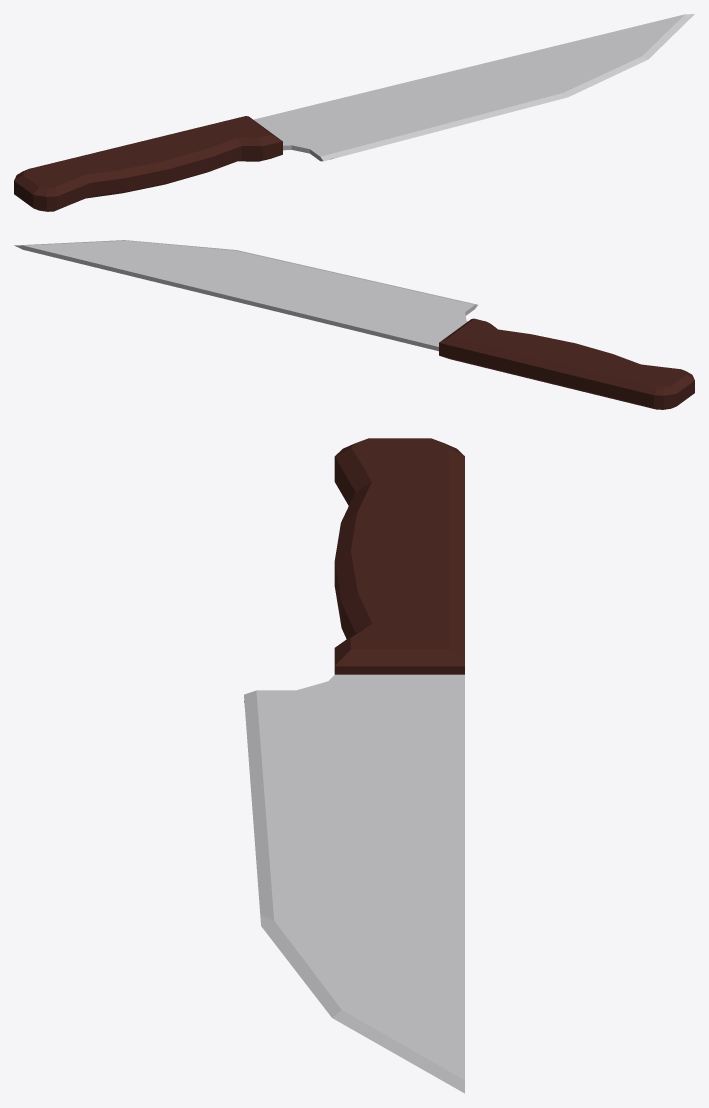
File: Knife.fbx
The picture shows the model from 3 angles, top to bottom: view 1: azimuth 30°, elevation 25°; view 2: azimuth 150°, elevation 25°; view 3: azimuth 270°, elevation 25°; orthographic projection. The views are drawn at different scales.
Visible parts, largest first — view 1: Knife; view 2: Knife; view 3: Knife.
Part boxes in pixels (left/top/right/bottom): Knife: left=14, top=14, right=694, bottom=211; Knife: left=14, top=240, right=694, bottom=409; Knife: left=244, top=438, right=464, bottom=1093.
Bounding box in the file's own units: 46.85 × 1.54 × 6.85.
Materials: 1 (1 with a texture image).
